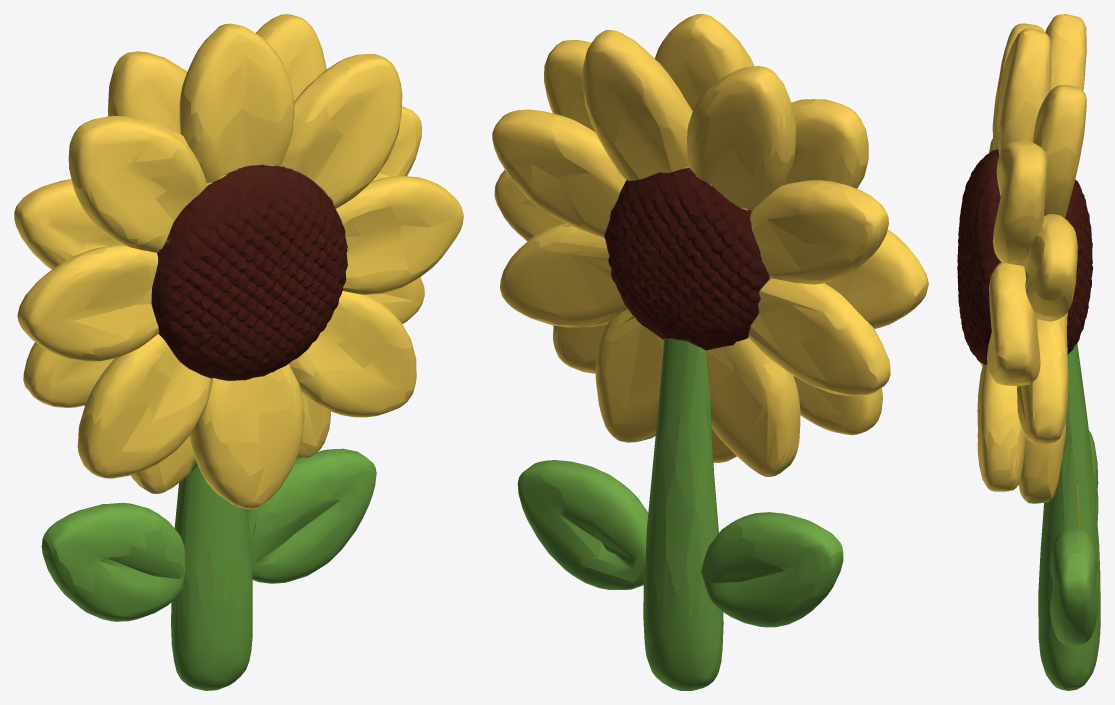
File: zonnebloem.glb
3 views of the same model, side by side, from view 1: azimuth 30°, elevation 25°; view 2: azimuth 150°, elevation 25°; view 3: azimuth 270°, elevation 25° (orthographic). The views are drawn at different scales.
Parts seen in each view (by area): view 1: Mesh_0; view 2: Mesh_0; view 3: Mesh_0.
Part boxes in pixels (x1,y1,x2,y2): Mesh_0: (14, 14, 463, 690); Mesh_0: (492, 14, 928, 690); Mesh_0: (957, 14, 1100, 690).
Size of the model in its own units: 1.28 by 1.9 by 0.3766.
Materials: 1 (1 with a texture image).
